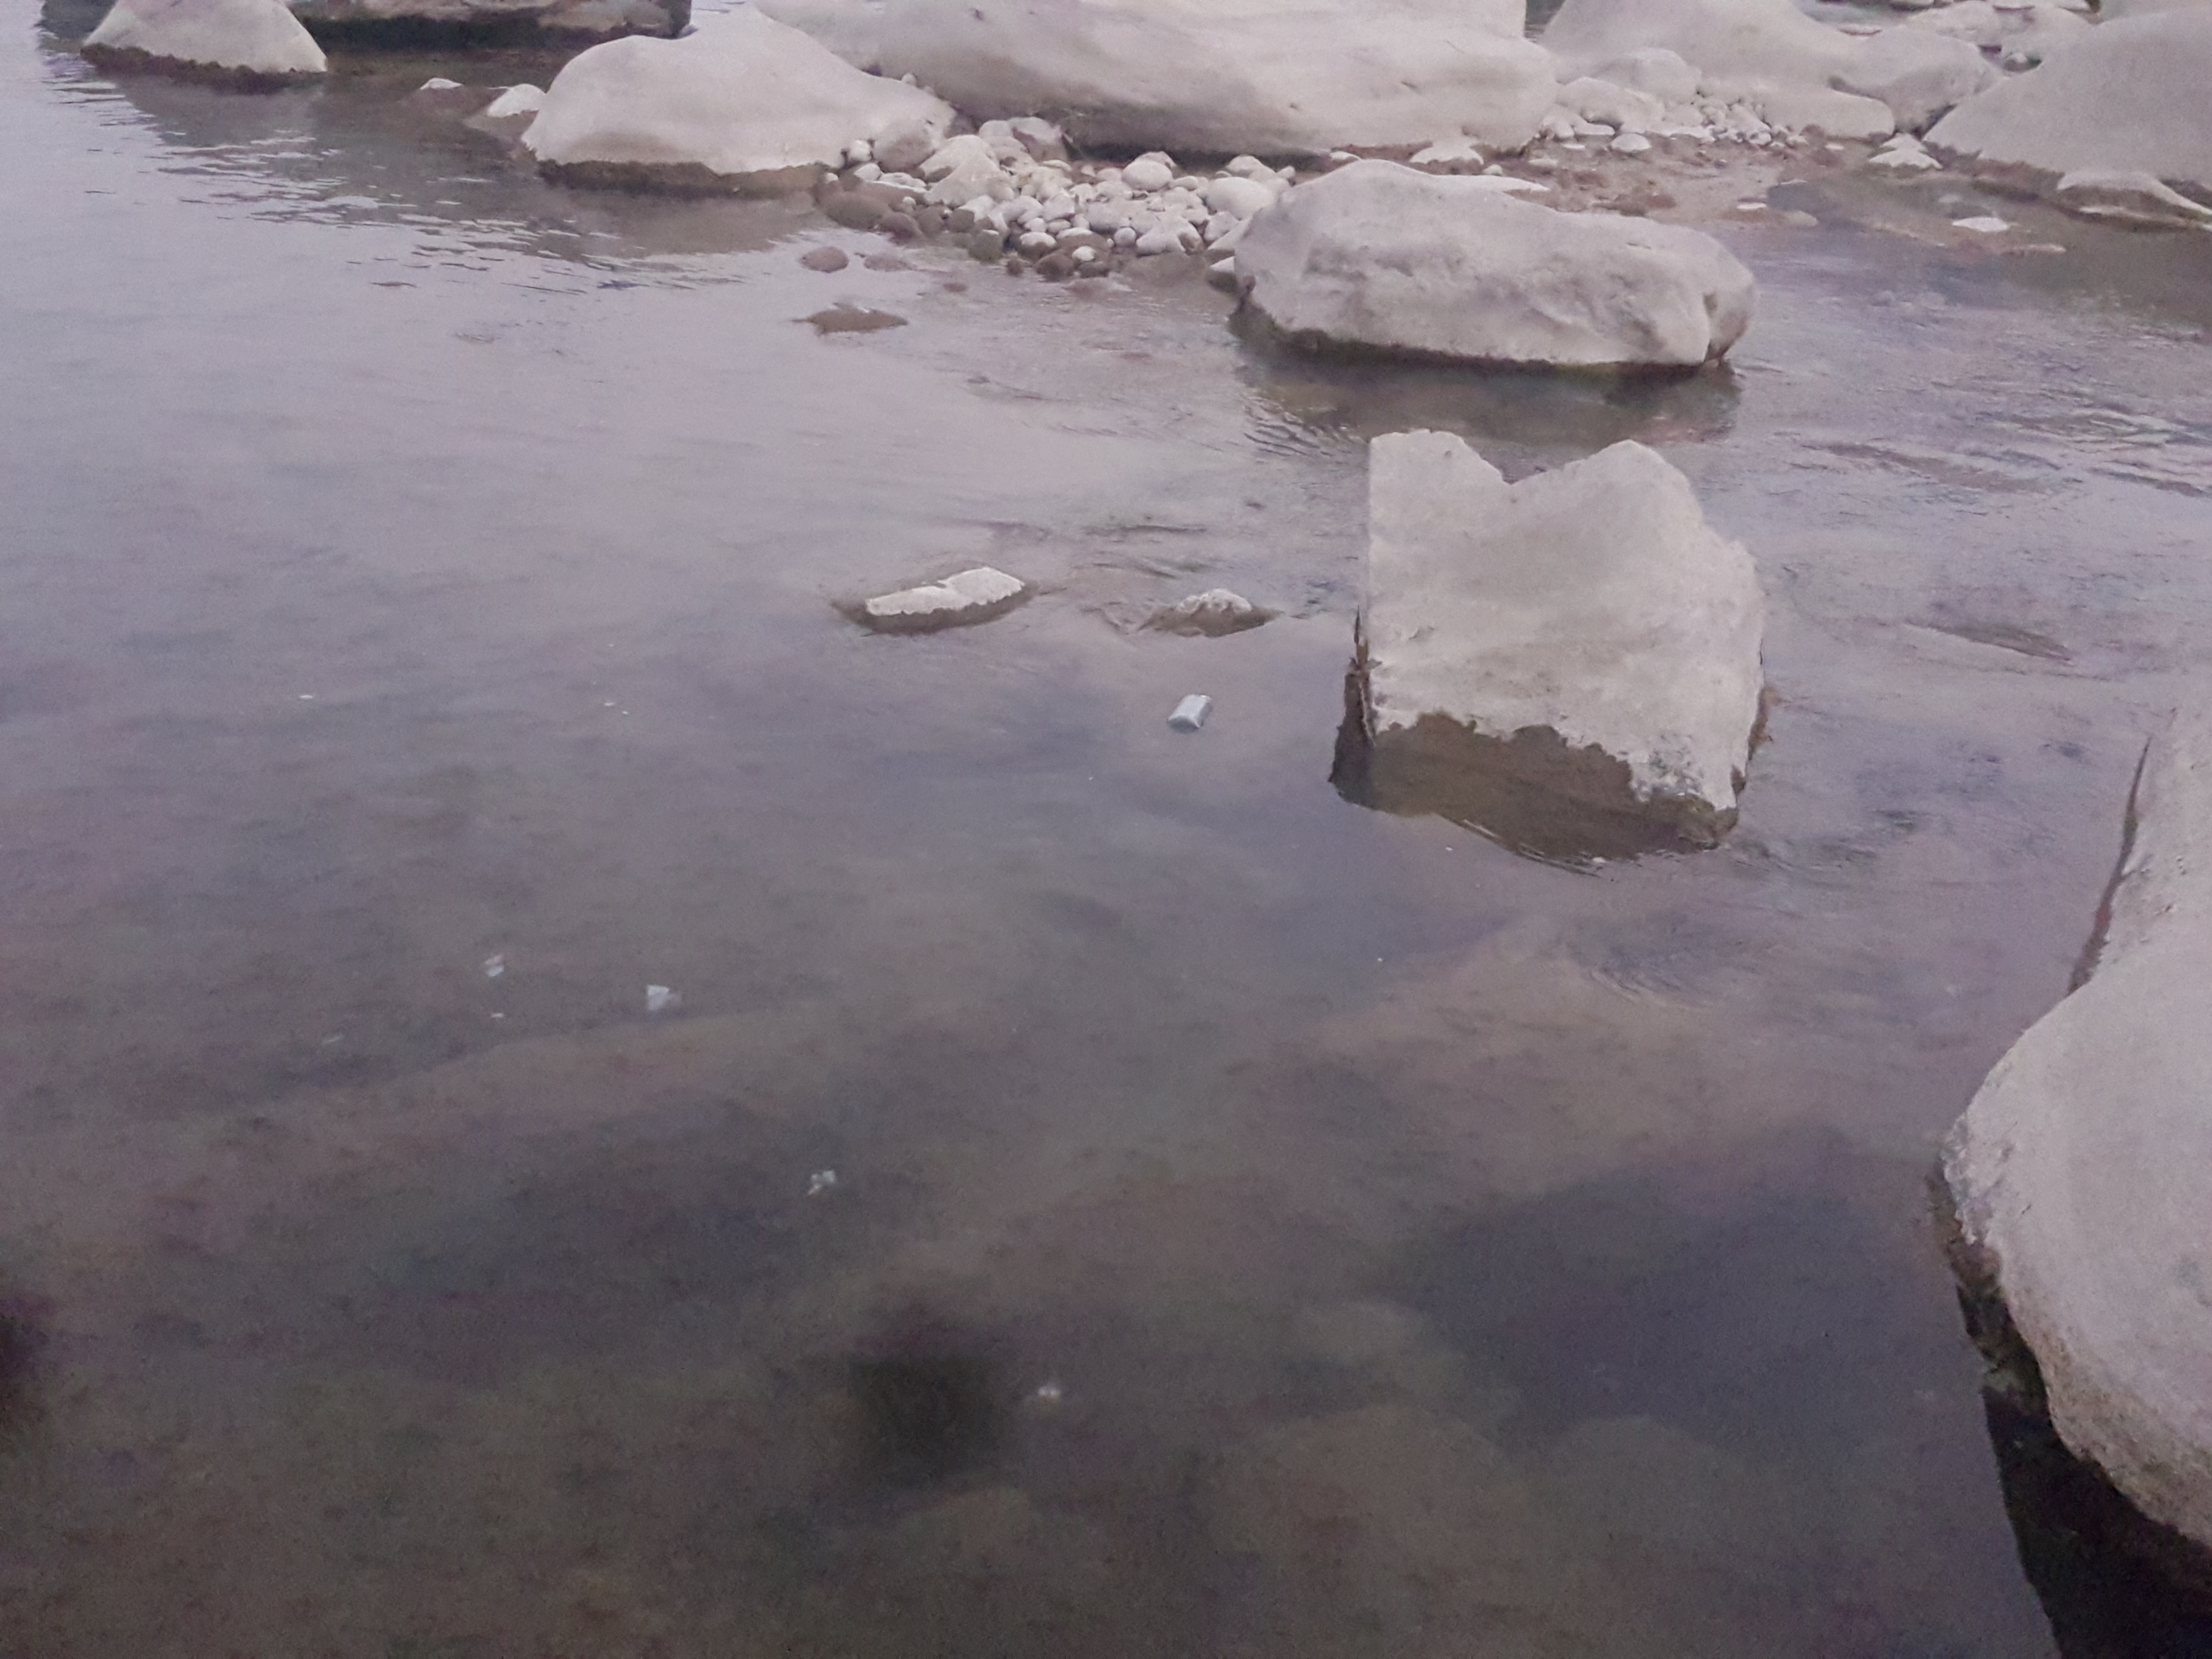Plastic Bottle: (1167, 695, 1214, 730)
